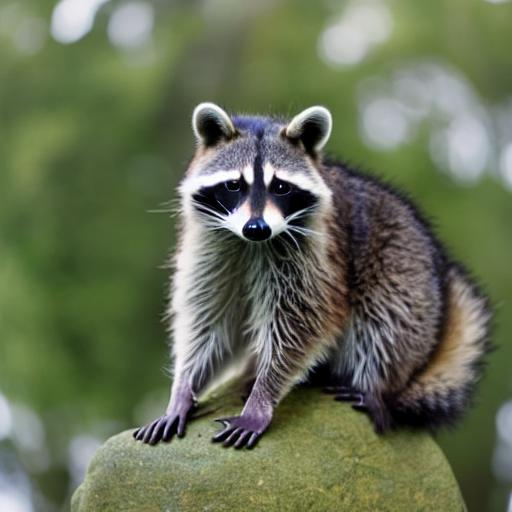raccoon: (158, 93, 500, 413)
